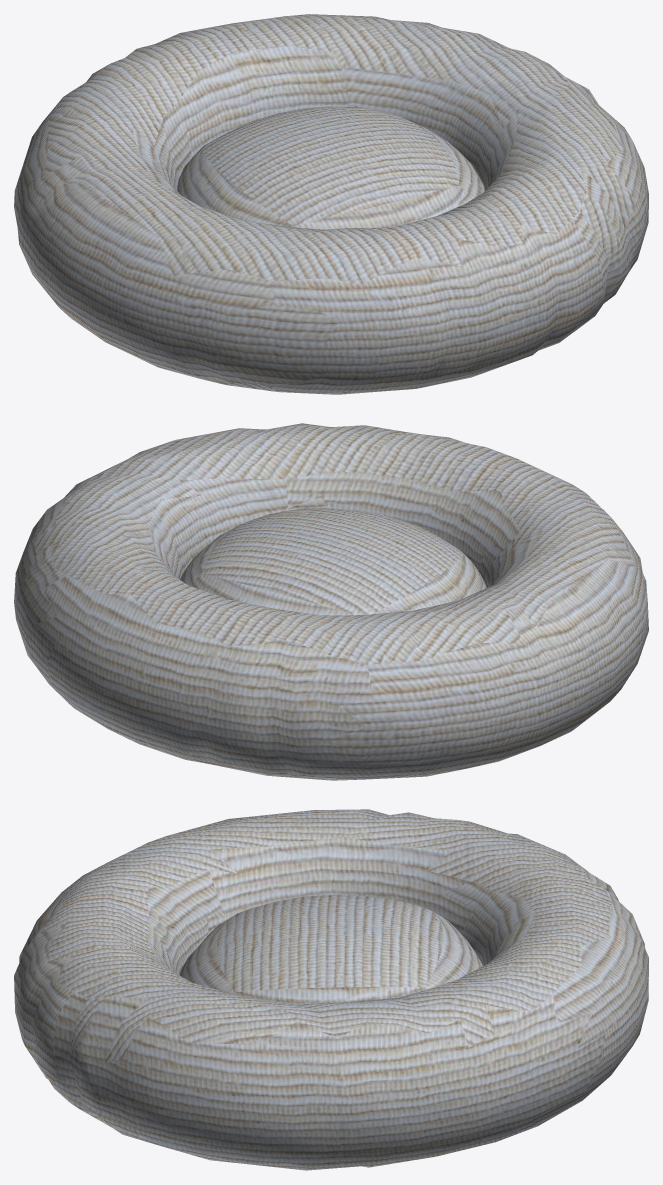
Rendered from YGB0110041.fbx.
3 renders of one model, top to bottom at view 1: azimuth 30°, elevation 25°; view 2: azimuth 150°, elevation 25°; view 3: azimuth 270°, elevation 25°, orthographic.
Visible parts, largest first — view 1: smYGB0110041; view 2: smYGB0110041; view 3: smYGB0110041.
Boxes of the visible parts, box(x1,y1,x2,y2) form: smYGB0110041: box(14, 14, 648, 394); smYGB0110041: box(14, 423, 648, 780); smYGB0110041: box(14, 809, 648, 1170).
Bounding box in the file's own units: 137 × 39.4 × 136.
1 material, 1 textured.
